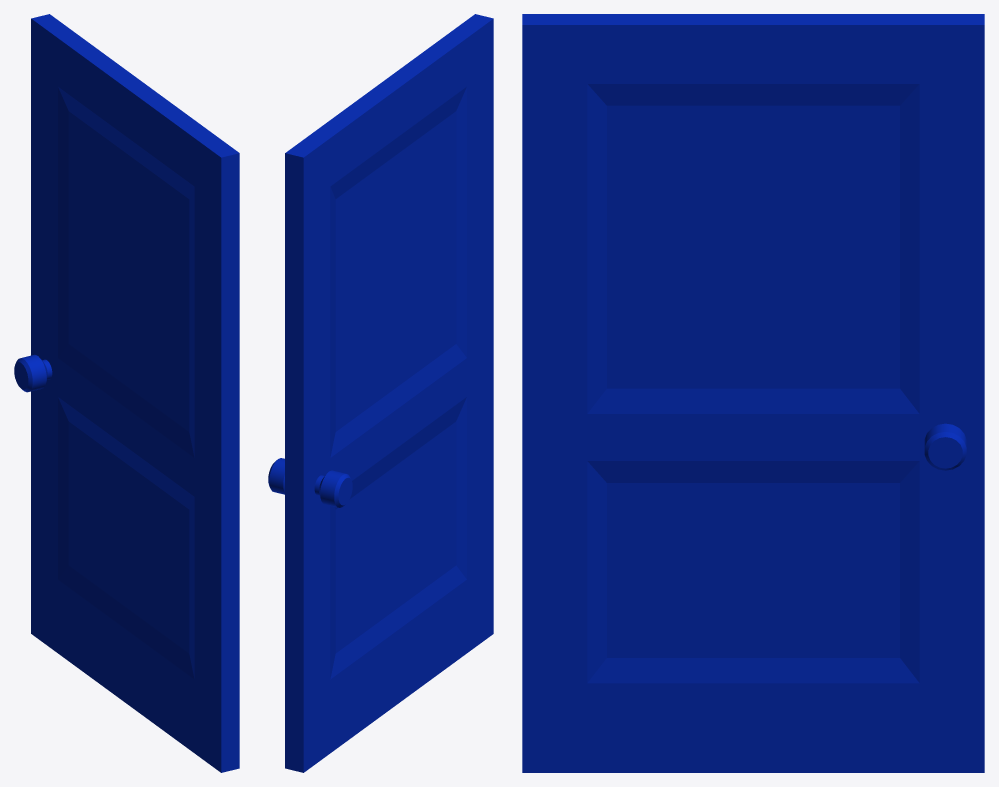
File: SM_SmallDoor.FBX
The picture shows the model from 3 angles, left to right: view 1: azimuth 30°, elevation 25°; view 2: azimuth 150°, elevation 25°; view 3: azimuth 270°, elevation 25°; orthographic projection. The views are drawn at different scales.
Parts seen in each view (by area): view 1: SM_Door; view 2: SM_Door; view 3: SM_Door.
Boxes of the visible parts, x1,y1,x2,y2 form: SM_Door: (14, 14, 239, 772); SM_Door: (268, 14, 493, 772); SM_Door: (522, 14, 984, 772).
Bounding box in the file's own units: 29.92 × 140 × 250.
